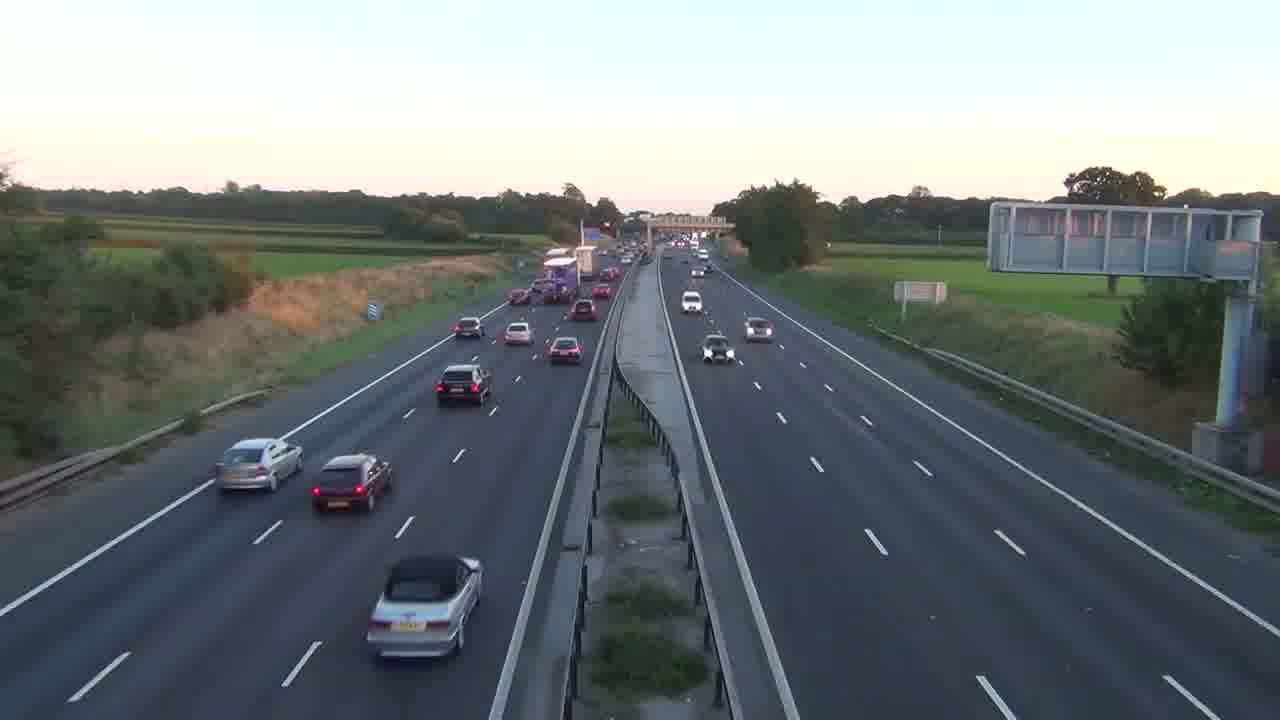car: (364, 553, 484, 662), (308, 452, 393, 513), (215, 436, 304, 493), (433, 364, 487, 406), (546, 336, 583, 364), (503, 319, 532, 347), (744, 317, 774, 342), (681, 290, 703, 313)
